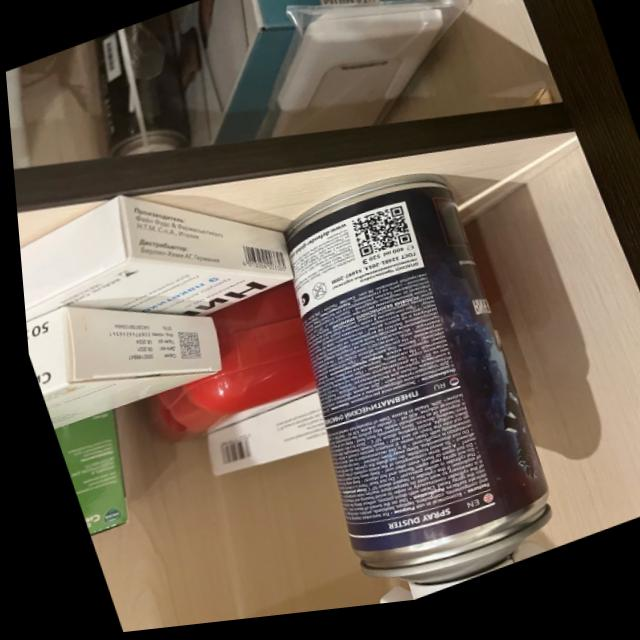datamatrix: (165, 329, 199, 371)
qrcode: (341, 208, 410, 270)
